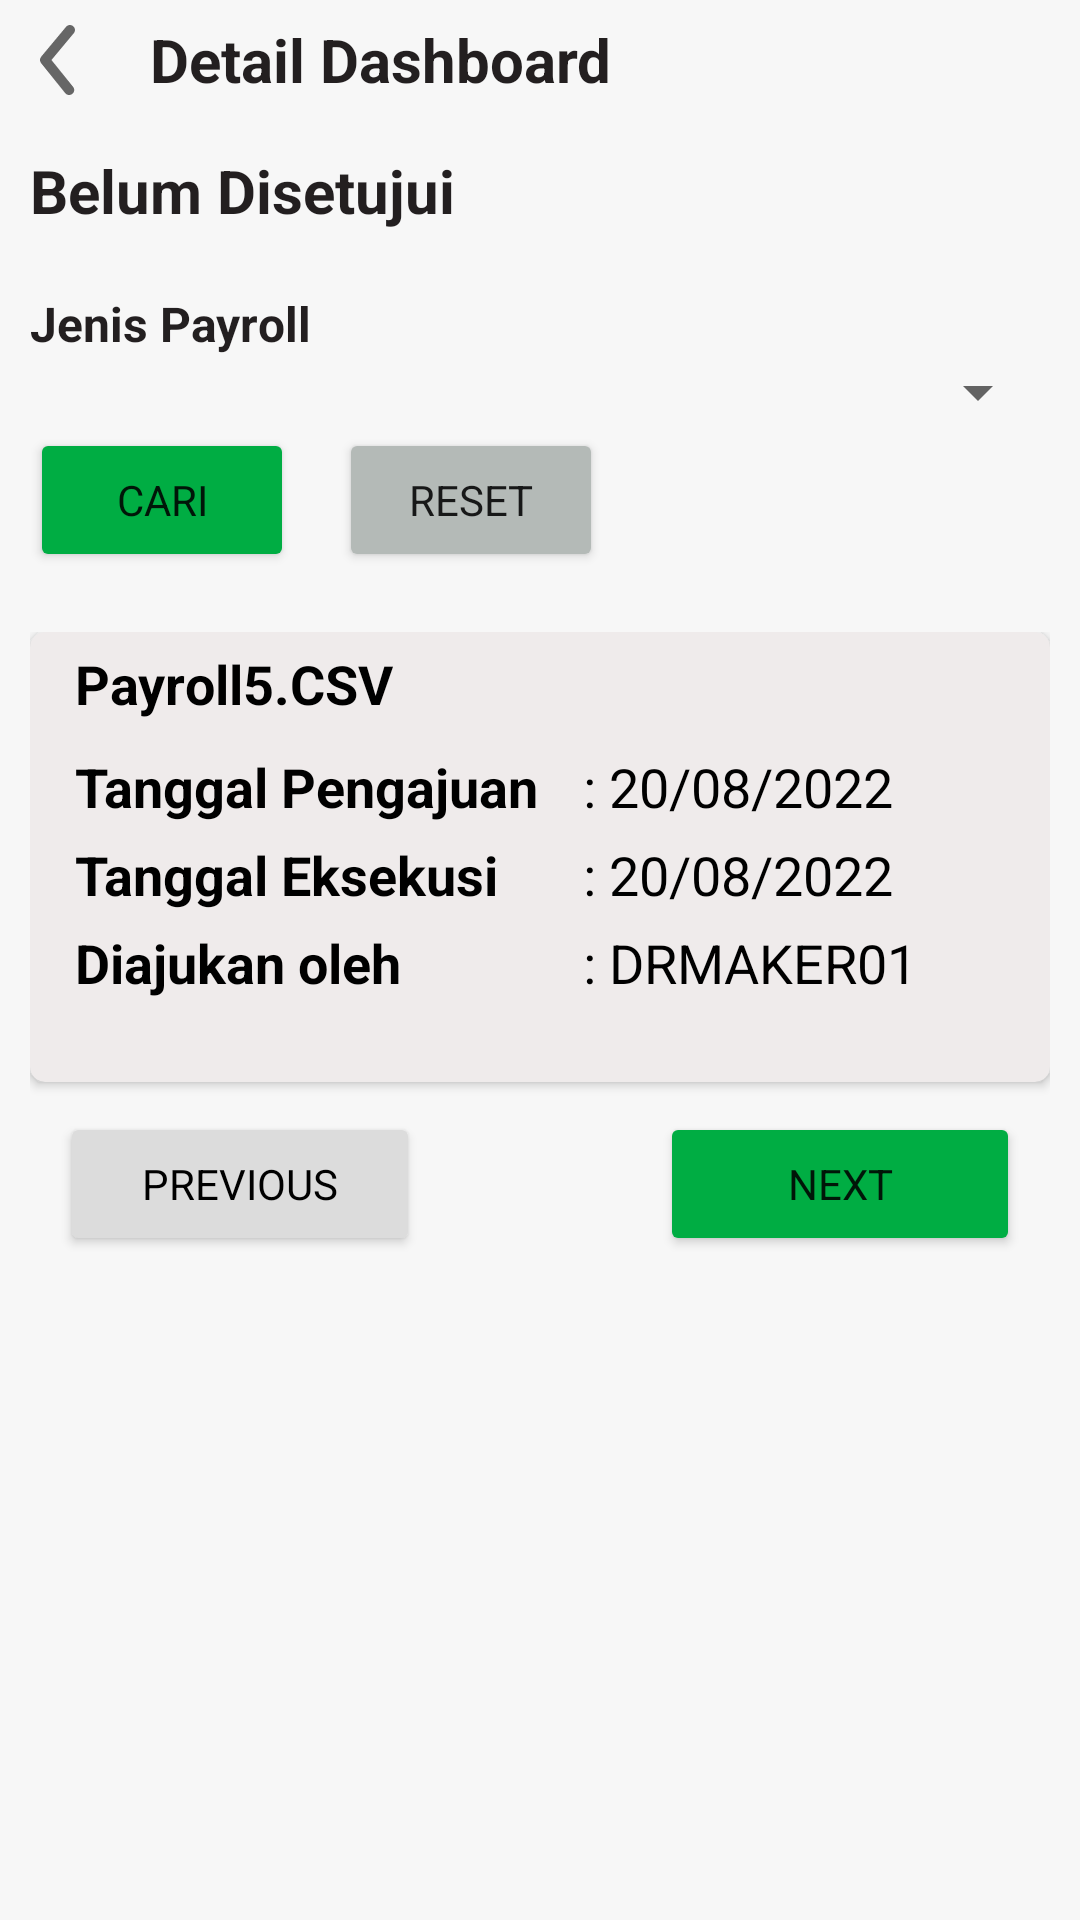

Icons on this 1080 x 1920 Android screen, each with its box as [left=x1, top=y1, right=x2, bottom=y2]:
back arrow: [left=40, top=25, right=75, bottom=95]
